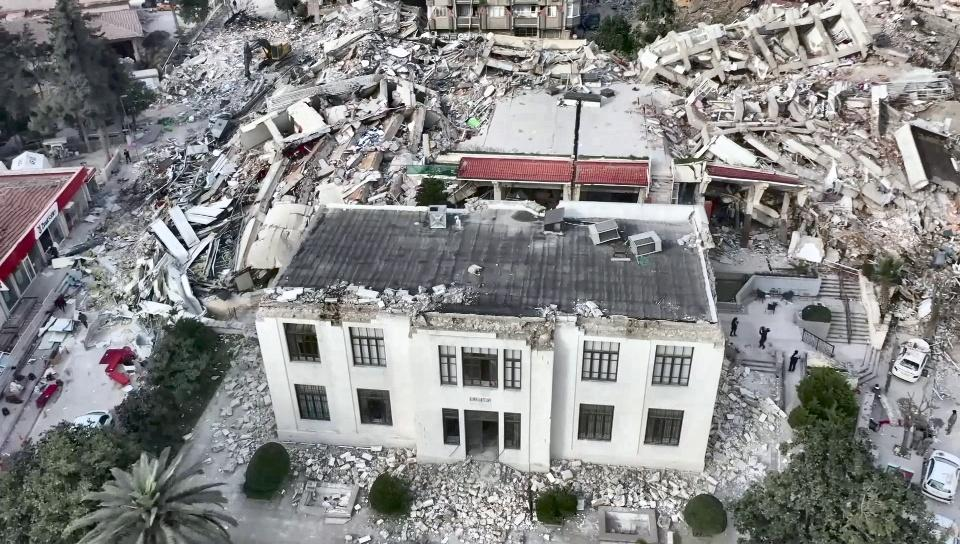kapali: (39, 1, 319, 396)
